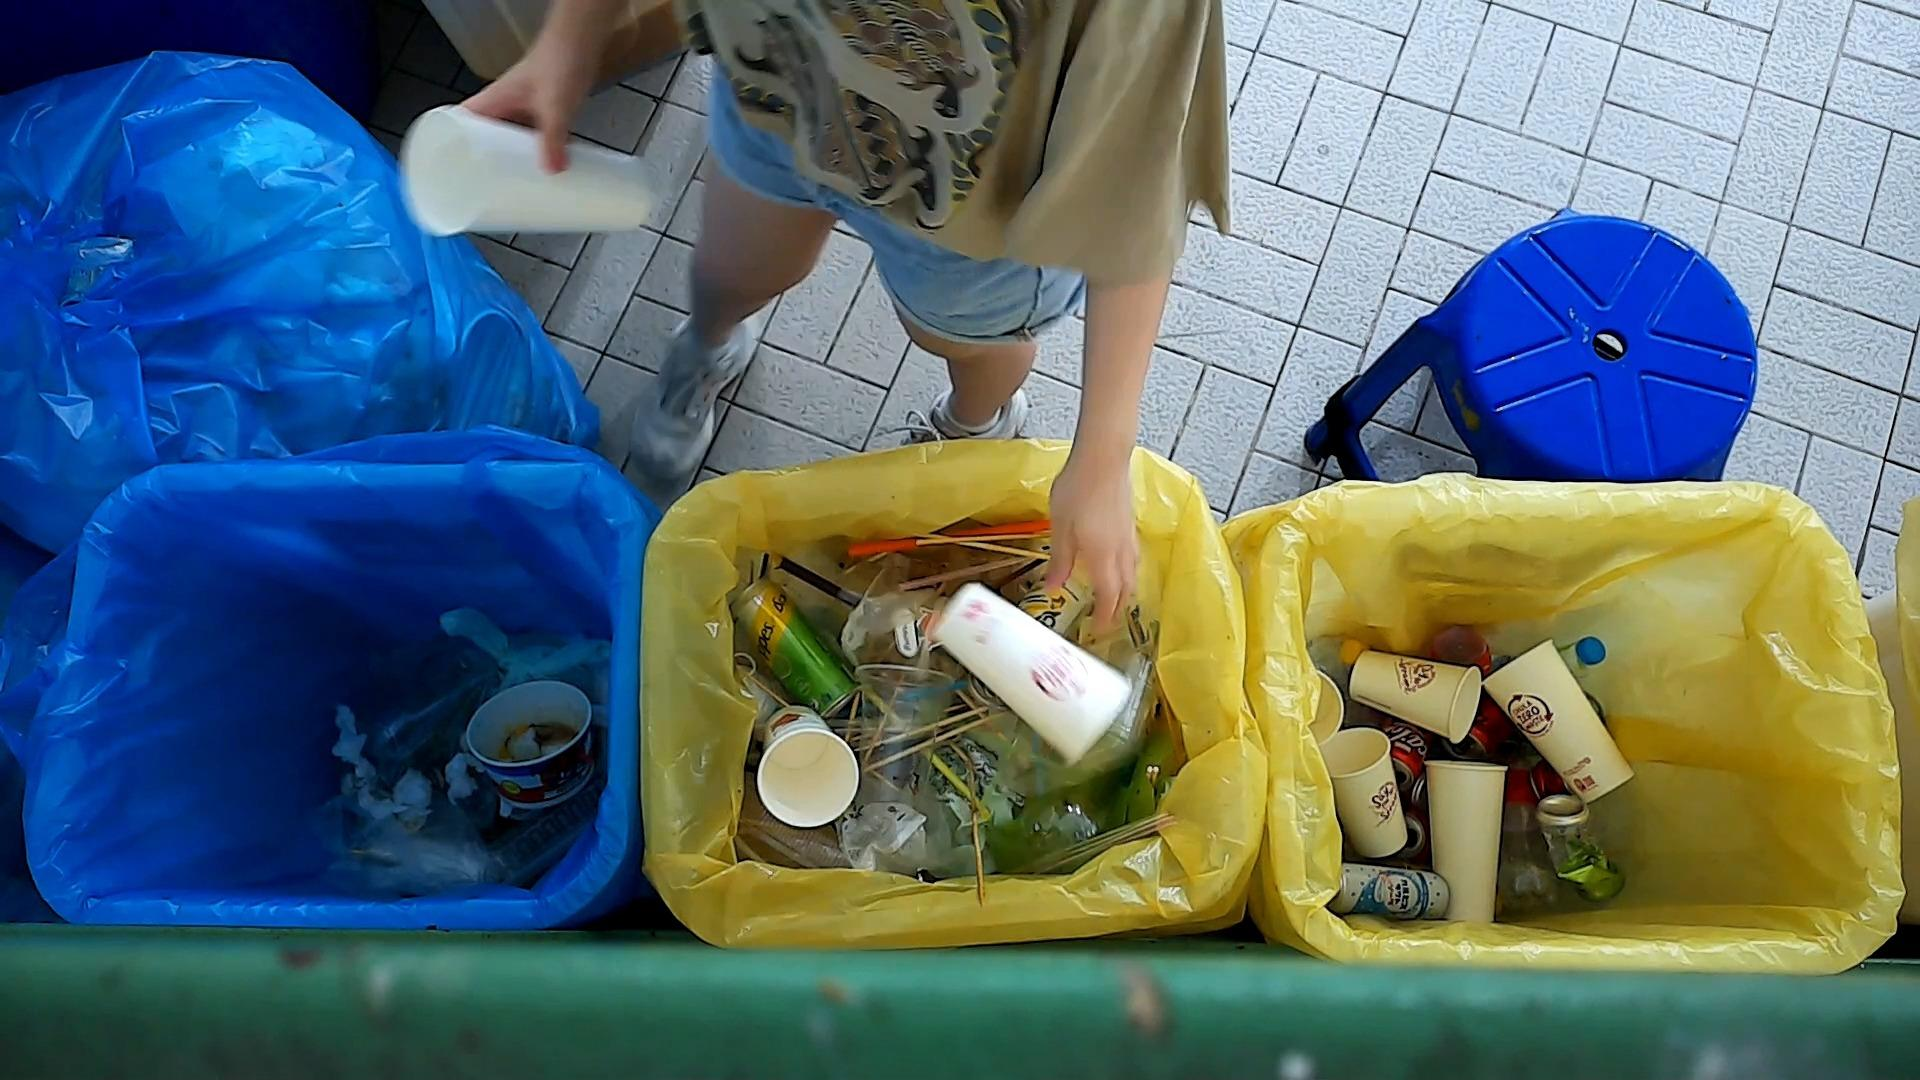can: (725, 575, 862, 724), (1532, 791, 1630, 909), (1321, 860, 1456, 923)
dirty food container: (463, 678, 597, 814)
plastic bag: (839, 778, 978, 885)
plastic cup: (848, 662, 960, 810), (840, 559, 968, 680)
sticks: (857, 711, 1010, 773), (851, 705, 992, 753), (920, 529, 1054, 564), (963, 746, 988, 909), (914, 527, 1050, 549)
straw: (866, 684, 993, 825), (894, 555, 1029, 591), (778, 553, 862, 608)
tissue paper: (355, 764, 435, 831), (327, 702, 380, 782), (442, 750, 487, 810)
zero waste cup: (927, 575, 1139, 771), (397, 95, 659, 248), (1477, 634, 1639, 810), (1423, 757, 1510, 924), (750, 703, 861, 831), (1345, 646, 1484, 746), (1320, 727, 1414, 860)
